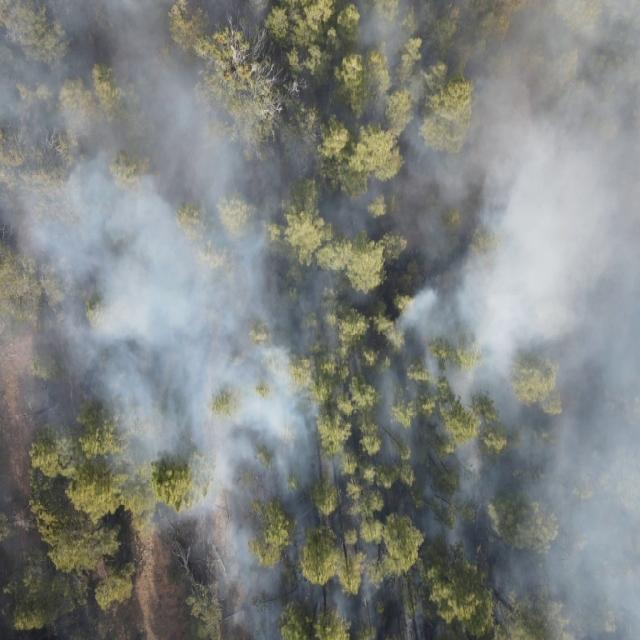smoke: (0, 0, 640, 470), (193, 534, 640, 640), (121, 470, 640, 534)
